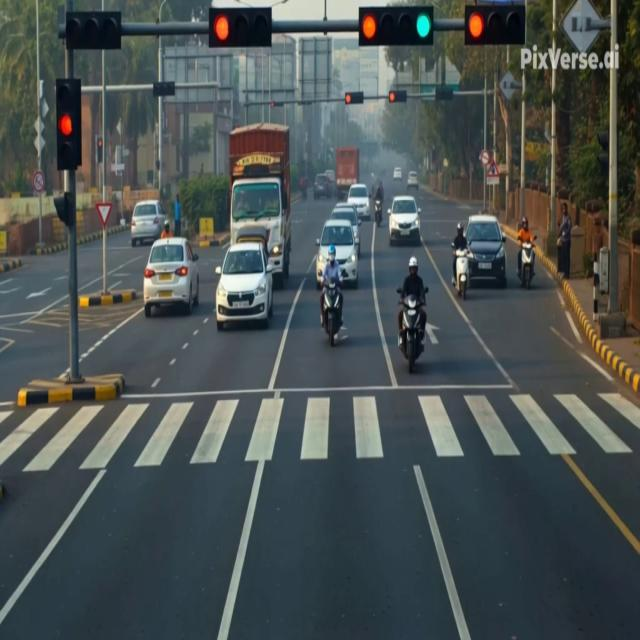car: (215, 242, 272, 330), (143, 238, 199, 317), (316, 220, 358, 289), (466, 215, 506, 287), (131, 200, 167, 247), (330, 204, 361, 257), (388, 196, 421, 245), (347, 184, 370, 220), (314, 174, 331, 199), (325, 170, 336, 196), (407, 172, 418, 190), (393, 167, 402, 181)
scooty: (399, 296, 424, 373), (323, 279, 341, 346), (452, 243, 469, 299), (519, 242, 534, 288), (375, 200, 381, 226), (301, 185, 306, 200)
traffic signal: (359, 7, 433, 47), (465, 5, 525, 46), (209, 8, 271, 47), (56, 79, 81, 170), (65, 12, 121, 50), (54, 192, 76, 228), (597, 132, 609, 175), (153, 82, 175, 97), (435, 86, 453, 101), (389, 90, 407, 103), (345, 92, 363, 104), (96, 136, 102, 163), (270, 102, 283, 108)
truck: (229, 123, 291, 287), (336, 147, 359, 199)
